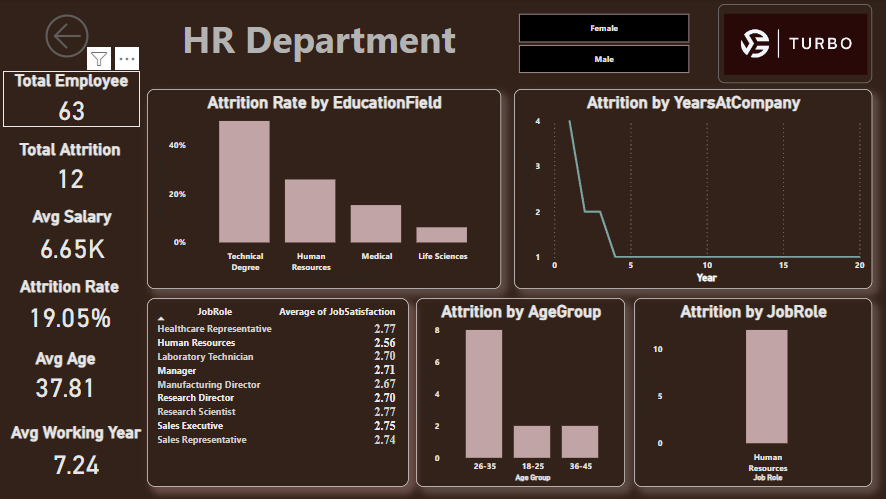

What the dashboard file says about the page in this screenshot:
{"tool":"powerbi","page":{"name":"HR department","canvas":[1280,720],"ordinal":2},"visuals":[{"type":"image","box":[1033.9,7.2,221.8,113.8],"z":0},{"type":"card","title":"Avg Age","fields":{"Values":["HR_Analytics.Average Age HR"]},"box":[13,504,162.7,77.8],"z":1000},{"type":"card","title":"Avg Salary","fields":{"Values":["HR_Analytics.Average Salary HR"]},"box":[4.3,299.5,198.7,86.4],"z":2000},{"type":"card","title":"Attrition Rate","fields":{"Values":["HR_Analytics.Attrition Rate HR"]},"box":[10.1,400.3,180,83.5],"z":3000},{"type":"card","title":"Avg Working Year","fields":{"Values":["HR_Analytics.Average Working Years HR"]},"box":[7.2,610.6,204.5,86.4],"z":4000},{"type":"card","title":"Total Attrition","fields":{"Values":["HR_Analytics.Total Attrition HR"]},"box":[7.2,203,187.2,77.8],"z":5000},{"type":"card","title":"Total Employee","fields":{"Values":["HR_Analytics.Total Employees HR"]},"box":[4.3,103.7,197.3,80.6],"z":6000},{"type":"textbox","box":[211.7,14.4,509.8,99.4],"z":7000},{"type":"clusteredColumnChart","title":"Attrition Rate by EducationField","fields":{"Category":["HR_Analytics.EducationField"],"Y":["HR_Analytics.Attrition Rate HR"]},"box":[211.7,129.6,509.8,288],"z":8000},{"type":"clusteredColumnChart","title":"Attrition by AgeGroup","fields":{"Category":["HR_Analytics.AgeGroup"],"Y":["HR_Analytics.Total Attrition HR"]},"box":[599,430.6,301,272.2],"z":9000},{"type":"clusteredColumnChart","title":"Attrition by JobRole","fields":{"Category":["HR_Analytics.JobRole"],"Y":["HR_Analytics.Total Attrition HR"]},"box":[913,430.6,342.7,272.2],"z":10000},{"type":"lineChart","title":"Attrition by YearsAtCompany","fields":{"Category":["HR_Analytics.YearsAtCompany"],"Y":["HR_Analytics.Total Attrition HR"]},"box":[740.2,129.6,515.5,288],"z":11000},{"type":"pivotTable","fields":{"Rows":["HR_Analytics.JobRole"],"Values":["Avg(HR_Analytics.JobSatisfaction)"]},"box":[211.7,430.6,377.3,272.2],"z":12000},{"type":"slicer","fields":{"Values":["HR_Analytics.Gender"]},"box":[721.4,14.4,295.2,99.4],"z":13000},{"type":"actionButton","box":[57.6,14.4,90.7,77.8],"z":14000}]}

Visuals, with their boxes in screenshot pixels (x1, y1, x2, y2), scaled from the page's 1280x720 canvas onto the 886x499 screenshot:
image: bbox=[716, 5, 869, 84]
"Avg Age" card: bbox=[9, 349, 122, 403]
"Avg Salary" card: bbox=[3, 208, 141, 267]
"Attrition Rate" card: bbox=[7, 277, 132, 335]
"Avg Working Year" card: bbox=[5, 423, 147, 483]
"Total Attrition" card: bbox=[5, 141, 135, 195]
"Total Employee" card: bbox=[3, 72, 140, 128]
textbox: bbox=[147, 10, 499, 79]
"Attrition Rate by EducationField" clusteredColumnChart: bbox=[147, 90, 499, 289]
"Attrition by AgeGroup" clusteredColumnChart: bbox=[415, 298, 623, 487]
"Attrition by JobRole" clusteredColumnChart: bbox=[632, 298, 869, 487]
"Attrition by YearsAtCompany" lineChart: bbox=[512, 90, 869, 289]
pivotTable - HR_Analytics.JobRole x Avg(HR_Analytics.JobSatisfaction): bbox=[147, 298, 408, 487]
slicer - HR_Analytics.Gender: bbox=[499, 10, 704, 79]
actionButton: bbox=[40, 10, 103, 64]
